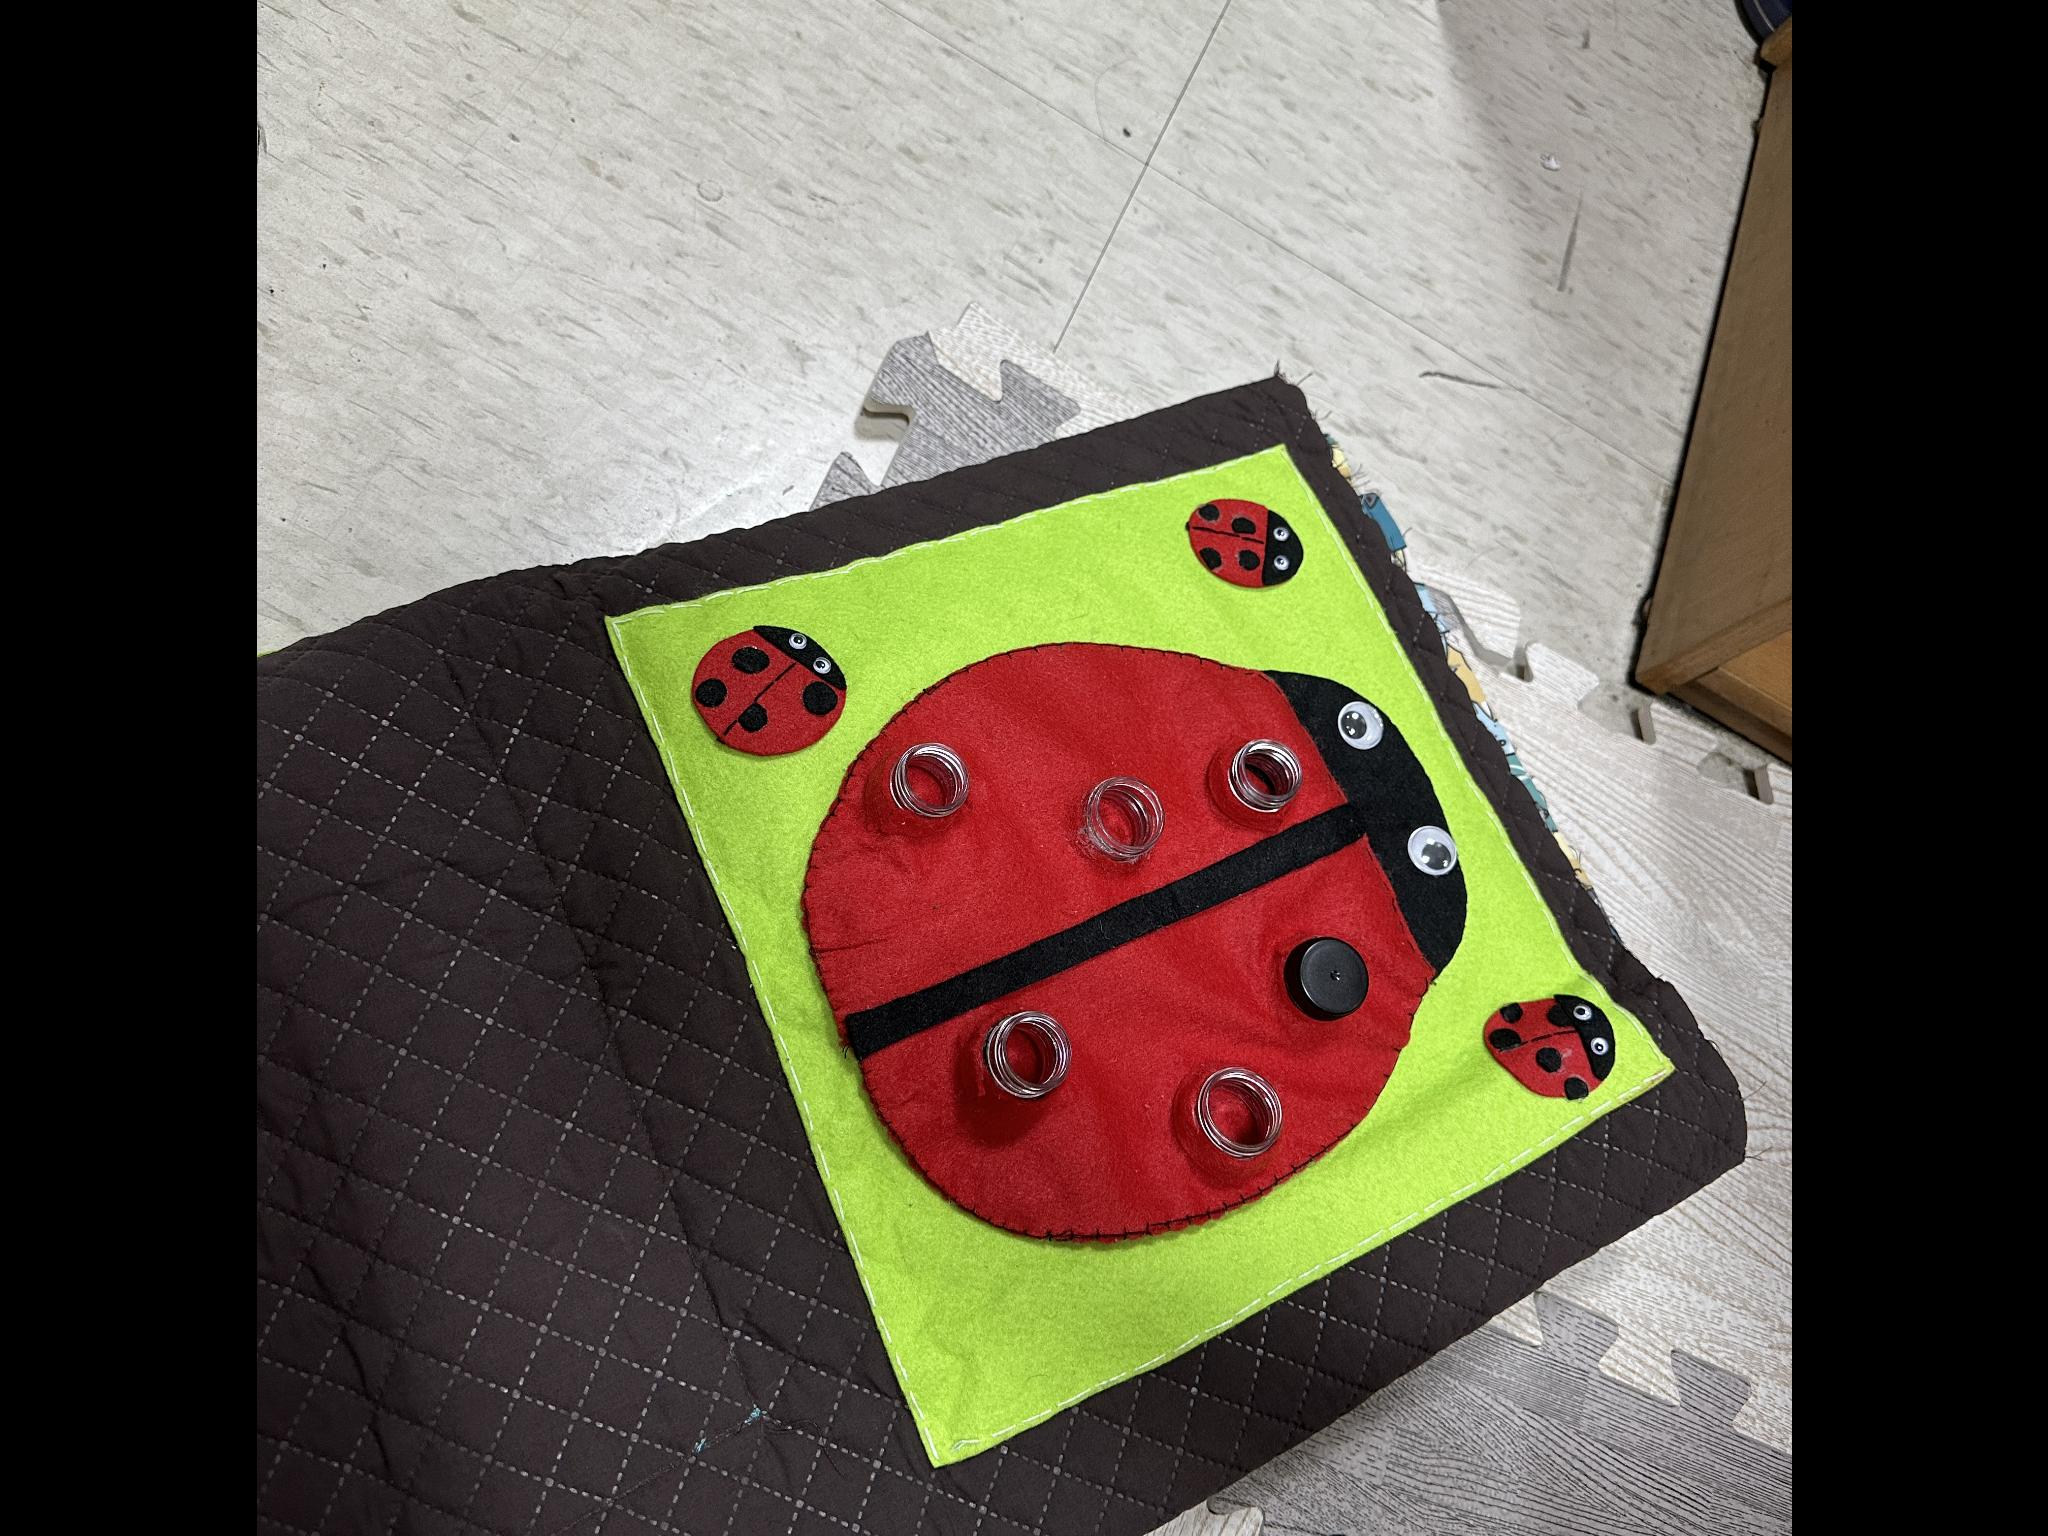cap_ok: (1266, 916, 1393, 1037)
